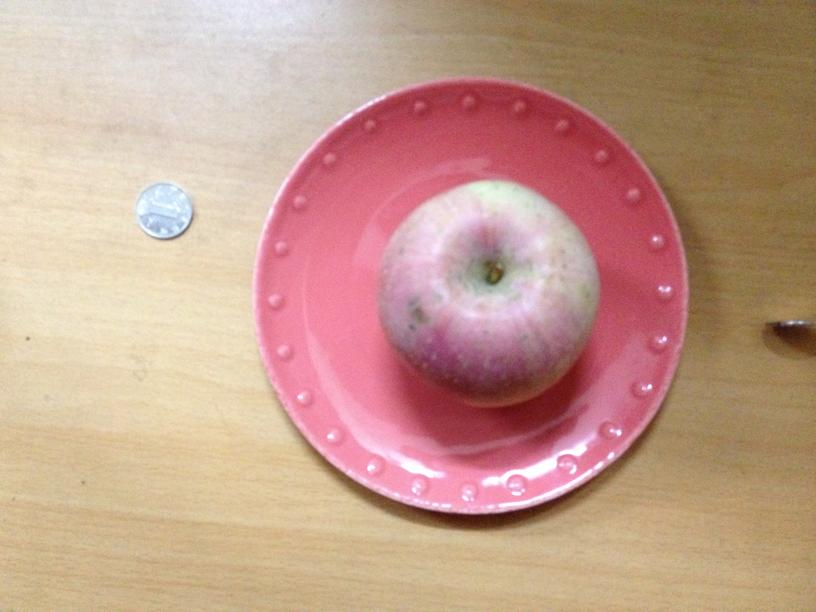apple: (384, 177, 599, 407)
coin: (135, 179, 193, 237)
